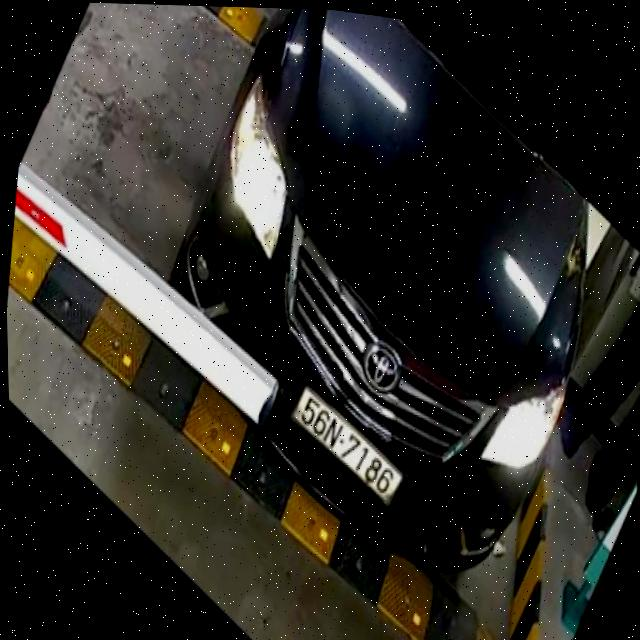car: (135, 4, 627, 598)
plate: (278, 380, 418, 511)
